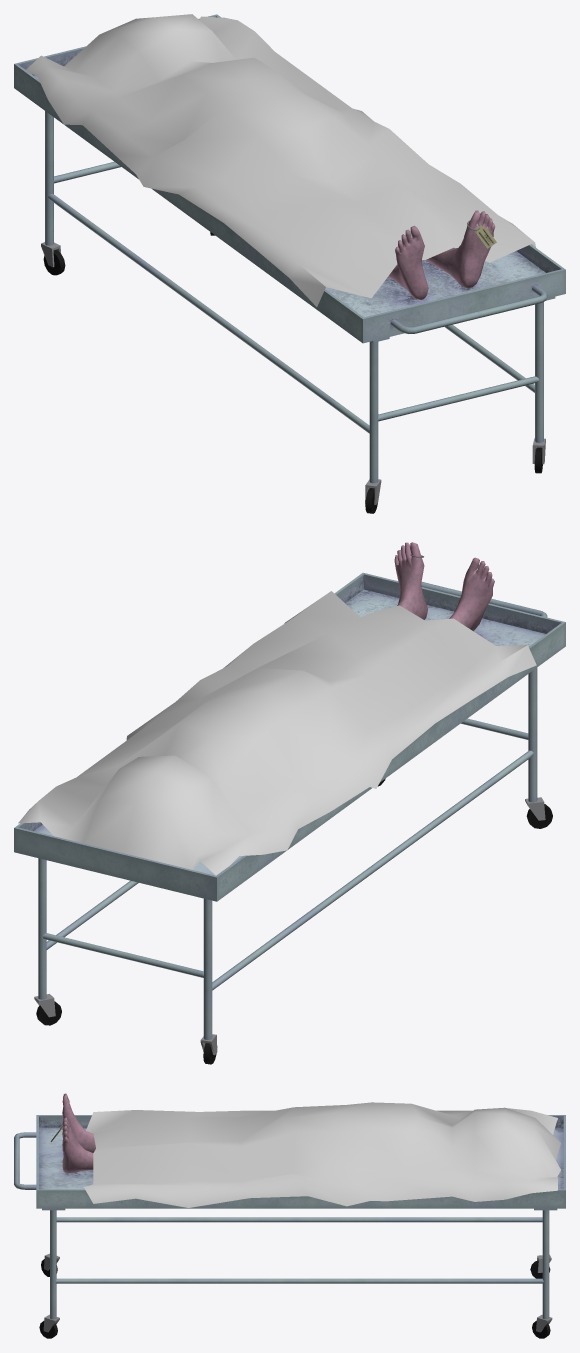
File: dead_body.glb
3 views of the same model, one above another, from view 1: azimuth 30°, elevation 25°; view 2: azimuth 150°, elevation 25°; view 3: azimuth 270°, elevation 25° (orthographic). The views are drawn at different scales.
Parts seen in each view (by area): view 1: Torus; view 2: Torus; view 3: Torus.
Part boxes in pixels (left/top/right/bottom): Torus: left=14, top=14, right=565, bottom=513; Torus: left=14, top=542, right=565, bottom=1064; Torus: left=14, top=1093, right=565, bottom=1338.
Bounding box in the file's own units: 0.7439 × 0.8052 × 2.
1 material, 1 textured.
